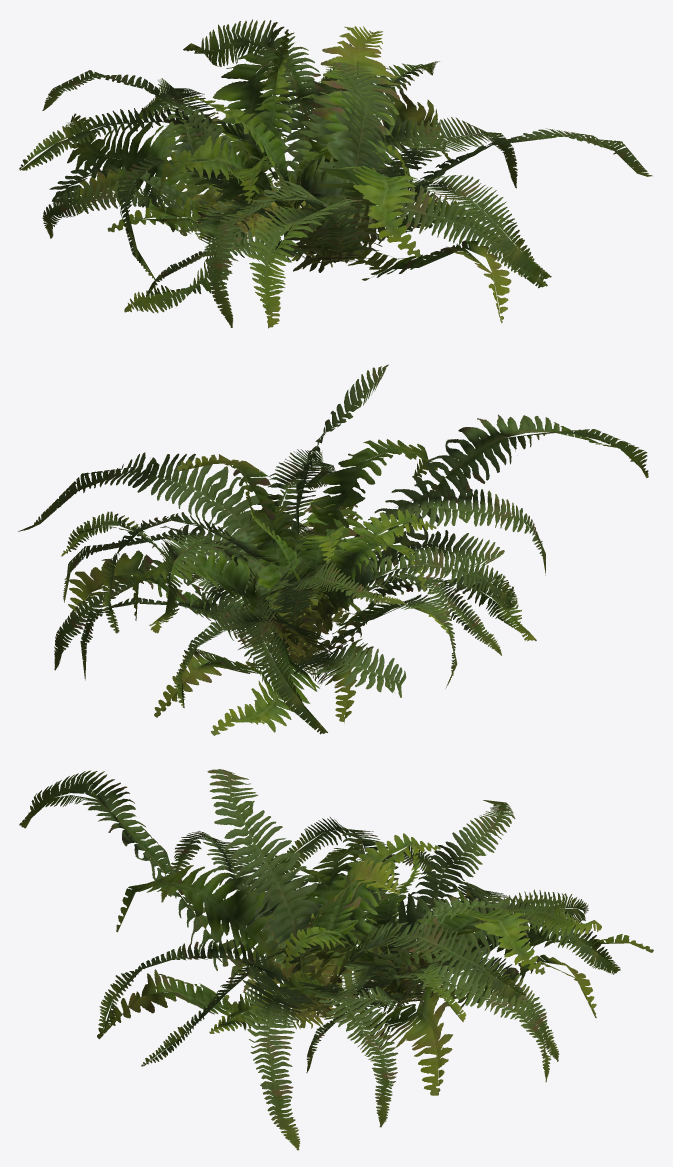
The model's file is veg-fern-clump-fed22308b091.glb.
The picture shows the model from 3 angles, top to bottom: view 1: azimuth 30°, elevation 25°; view 2: azimuth 150°, elevation 25°; view 3: azimuth 270°, elevation 25°; orthographic projection. The views are drawn at different scales.
Parts seen in each view (by area): view 1: veg-fern-clump; view 2: veg-fern-clump; view 3: veg-fern-clump.
Part boxes in pixels (x1,y1,x2,y2): veg-fern-clump: [19, 19, 652, 328]; veg-fern-clump: [18, 364, 648, 735]; veg-fern-clump: [19, 769, 653, 1150].
Bounding box in the file's own units: 1.22 × 0.55 × 1.31.
Materials: 1 (1 with a texture image).
